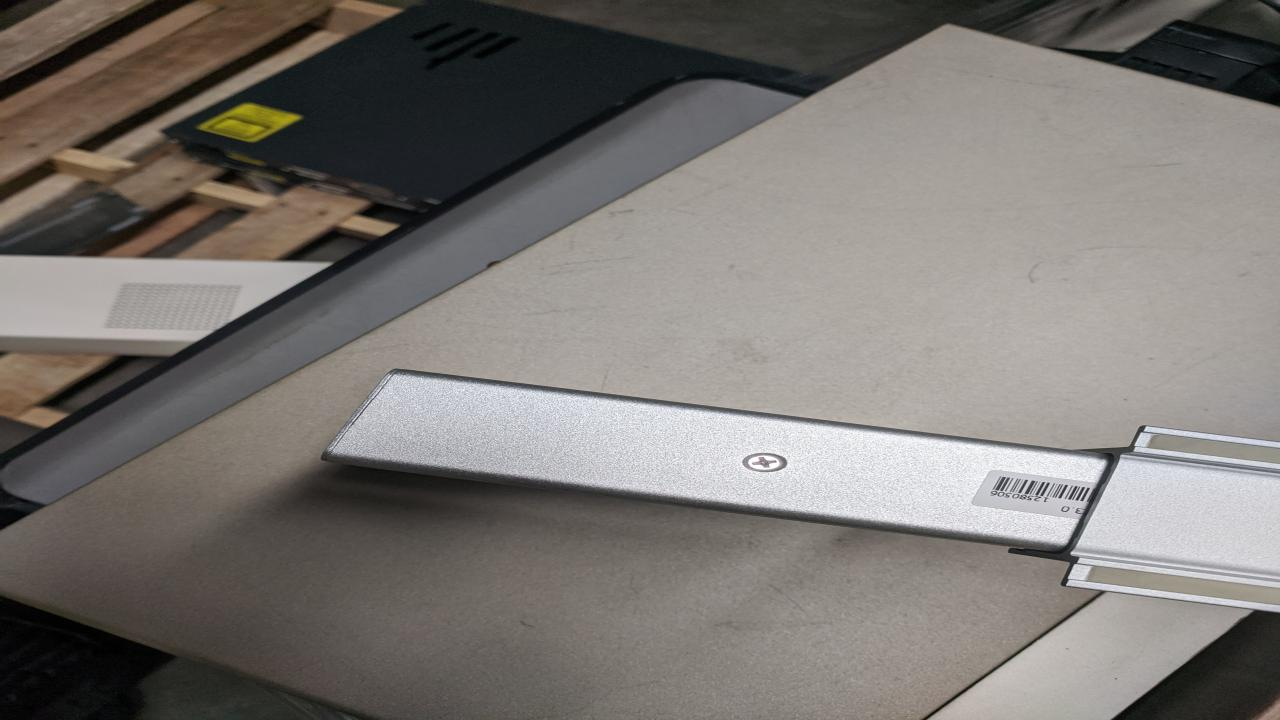CRS: (741, 453, 791, 472)
